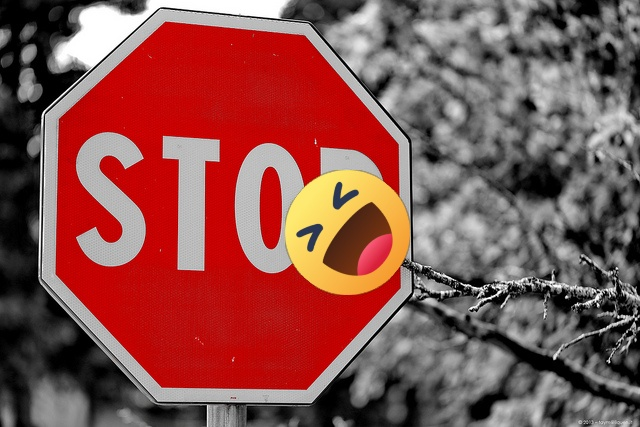haha: (285, 170, 410, 295)
